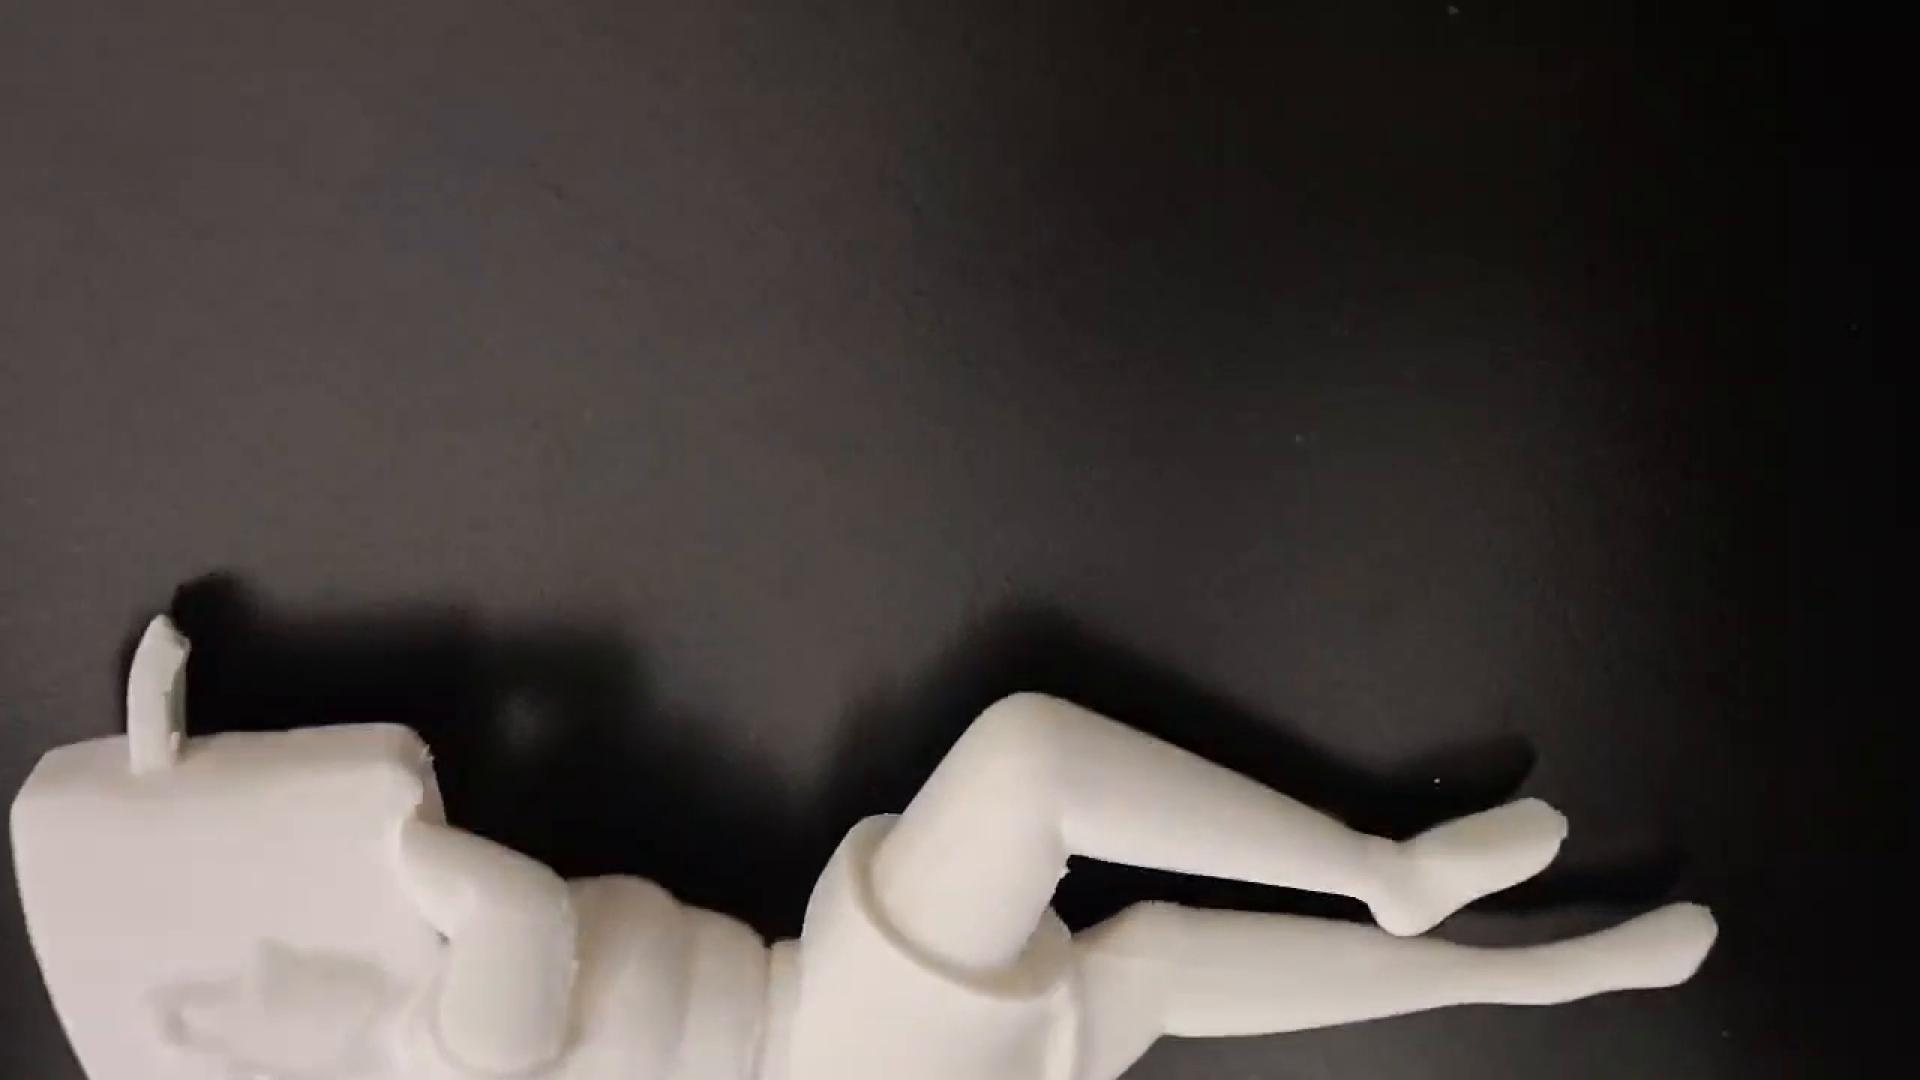Good-style: (0, 585, 1731, 1079)
